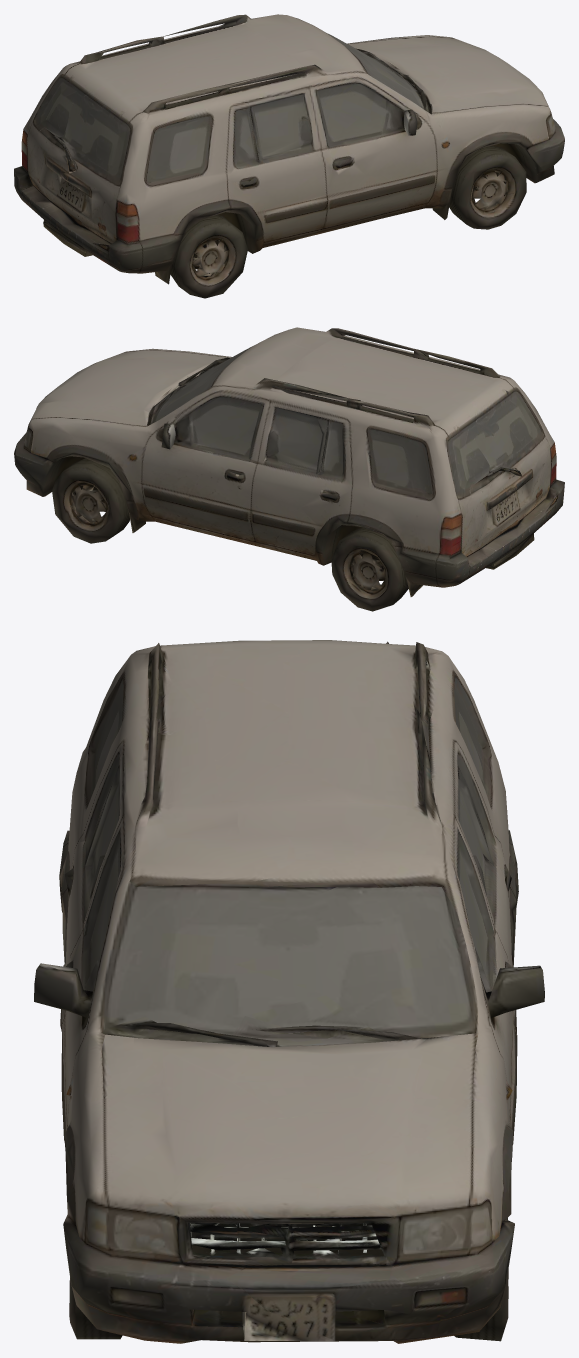
File: Car 4.fbx
The picture shows the model from 3 angles, top to bottom: view 1: azimuth 30°, elevation 25°; view 2: azimuth 150°, elevation 25°; view 3: azimuth 270°, elevation 25°; orthographic projection. The views are drawn at different scales.
Parts seen in each view (by area): view 1: tripo_node_a63ea593-cd05-430b-95ab-aeece12fa594; view 2: tripo_node_a63ea593-cd05-430b-95ab-aeece12fa594; view 3: tripo_node_a63ea593-cd05-430b-95ab-aeece12fa594.
Boxes of the visible parts, x1=… form: tripo_node_a63ea593-cd05-430b-95ab-aeece12fa594: x1=14, y1=14, x2=564, y2=298; tripo_node_a63ea593-cd05-430b-95ab-aeece12fa594: x1=14, y1=327, x2=564, y2=611; tripo_node_a63ea593-cd05-430b-95ab-aeece12fa594: x1=34, y1=640, x2=544, y2=1343.
Size of the model in its own units: 100 by 38.69 by 47.1.
Materials: 1 (1 with a texture image).
